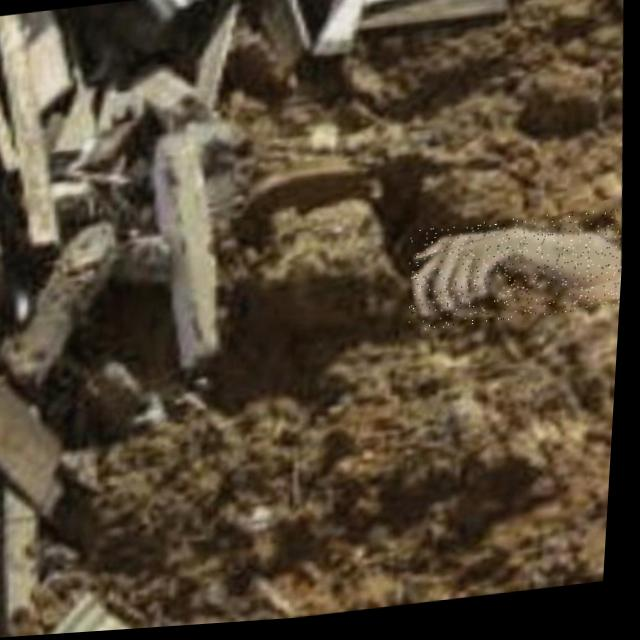Person in Rubble: (408, 214, 628, 338)
